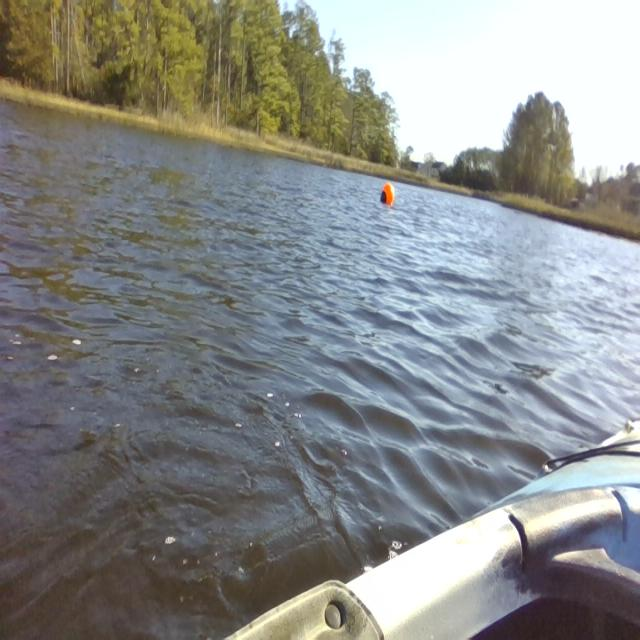Buoy: (377, 177, 399, 215)
